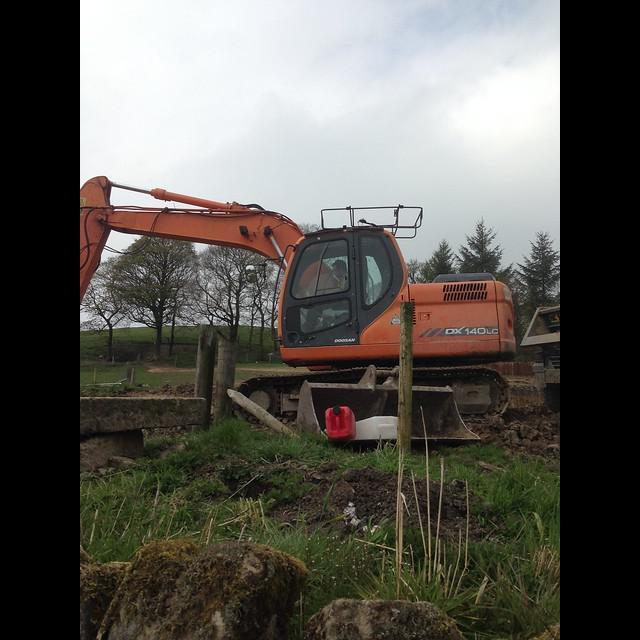Excavator: (80, 147, 515, 442)
NO-Hardhat: (332, 259, 346, 267)
Person: (302, 258, 349, 333)
